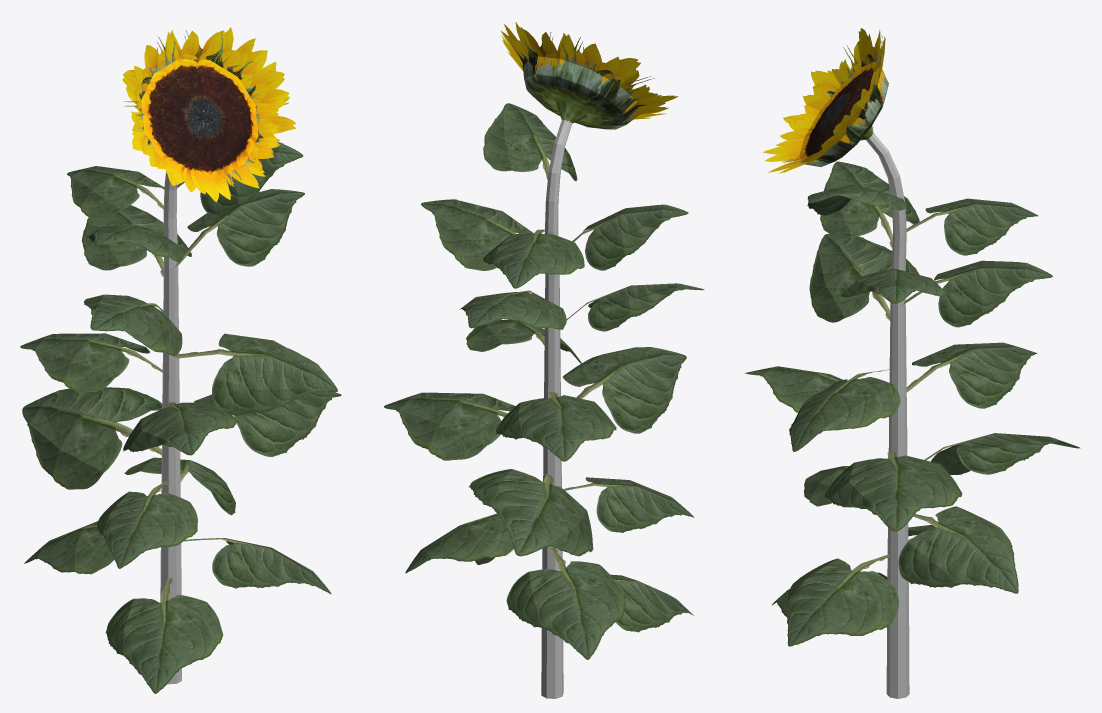
The model's file is sunflower.obj.
3 views of the same model, side by side, from view 1: azimuth 30°, elevation 25°; view 2: azimuth 150°, elevation 25°; view 3: azimuth 270°, elevation 25° (orthographic).
Parts seen in each view (by area): view 1: sunflowermesh; view 2: sunflowermesh; view 3: sunflowermesh.
Part boxes in pixels (x1=…): sunflowermesh: x1=20, y1=27, x2=341, y2=693; sunflowermesh: x1=384, y1=22, x2=704, y2=698; sunflowermesh: x1=745, y1=28, x2=1080, y2=698.
Size of the model in its own units: 2.96 by 6.44 by 3.06.
